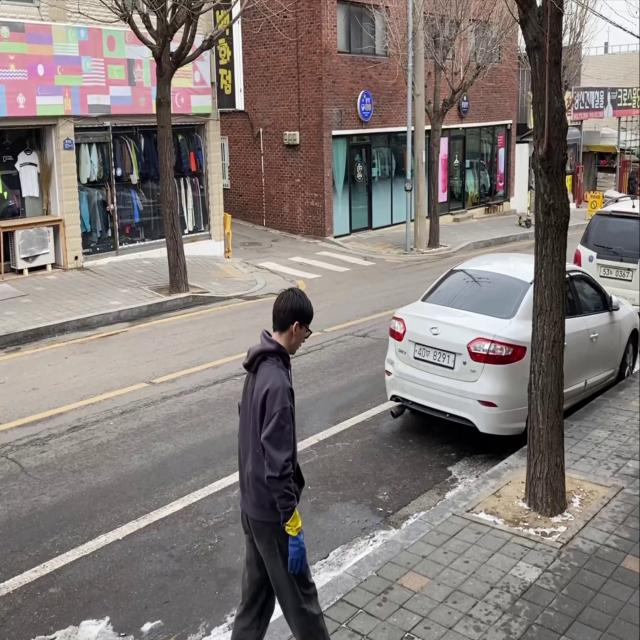gloved_hand: (285, 533, 310, 574)
